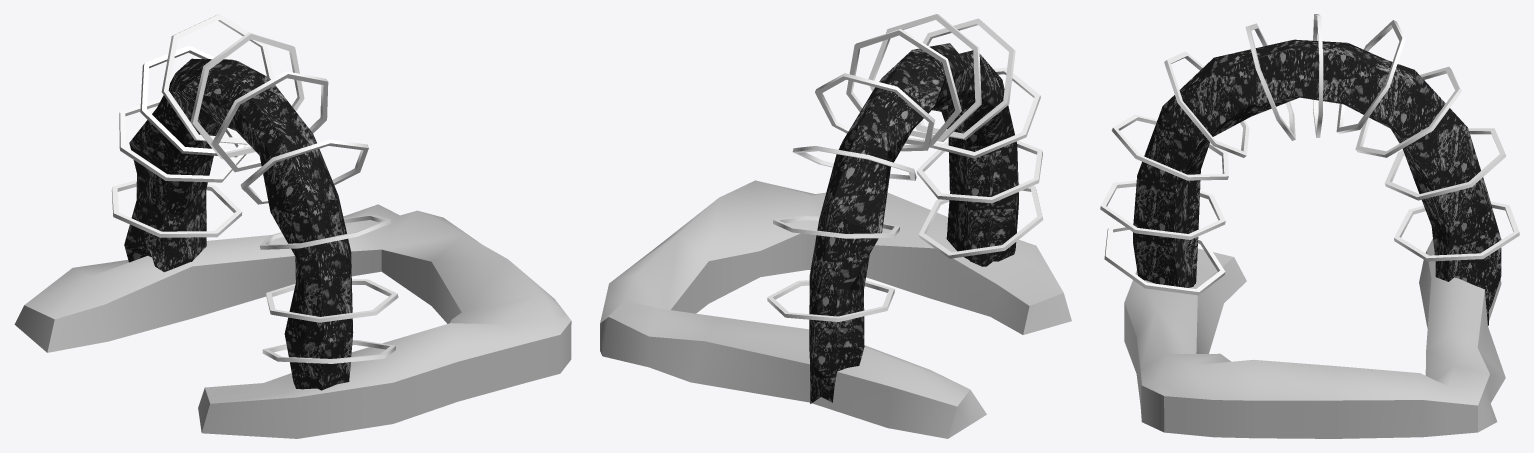
The model's file is Portal.FBX.
3 views of the same model, side by side, from view 1: azimuth 30°, elevation 25°; view 2: azimuth 150°, elevation 25°; view 3: azimuth 270°, elevation 25° (orthographic). The views are drawn at different scales.
Parts seen in each view (by area): view 1: Box002, Box003, Tube005, Tube004, Tube006, Tube001, Tube002, Tube003, Tube007, Tube009, Tube008, Tube010; view 2: Box002, Box003, Tube005, Tube006, Tube004, Tube007, Tube009, Tube010, Tube001, Tube008, Tube003, Tube002; view 3: Box002, Box003, Tube001, Tube010, Tube002, Tube009, Tube008, Tube003, Tube007, Tube004, Tube006, Tube005.
Part boxes in pixels (x1,y1,x2,y2): Box002: (14, 204, 571, 438); Box003: (124, 58, 353, 390); Tube005: (190, 32, 304, 159); Tube004: (161, 14, 275, 144); Tube006: (211, 71, 328, 172); Tube001: (111, 180, 242, 237); Tube002: (119, 97, 246, 182); Tube003: (140, 45, 245, 157); Tube007: (240, 139, 368, 204); Tube009: (266, 279, 398, 322); Tube008: (260, 214, 391, 249); Tube010: (262, 340, 395, 363); Box002: (600, 180, 1071, 438); Box003: (809, 43, 1018, 403); Tube005: (846, 28, 961, 147); Tube006: (868, 14, 981, 141); Tube004: (815, 73, 935, 151); Tube007: (915, 18, 1015, 139); Tube009: (916, 140, 1042, 203); Tube010: (918, 183, 1043, 258); Tube001: (767, 280, 894, 321); Tube008: (920, 67, 1040, 158); Tube003: (792, 146, 916, 180); Tube002: (773, 215, 899, 238); Box002: (1124, 238, 1505, 438); Box003: (1133, 39, 1501, 325); Tube001: (1394, 201, 1519, 261); Tube010: (1104, 222, 1225, 295); Tube002: (1384, 128, 1506, 200); Tube009: (1100, 180, 1225, 239); Tube008: (1111, 114, 1228, 180); Tube003: (1355, 66, 1461, 157); Tube007: (1164, 51, 1249, 157); Tube004: (1336, 20, 1405, 133); Tube006: (1245, 23, 1295, 140); Tube005: (1313, 14, 1323, 137).
Size of the model in its own units: 198 by 157 by 192.
